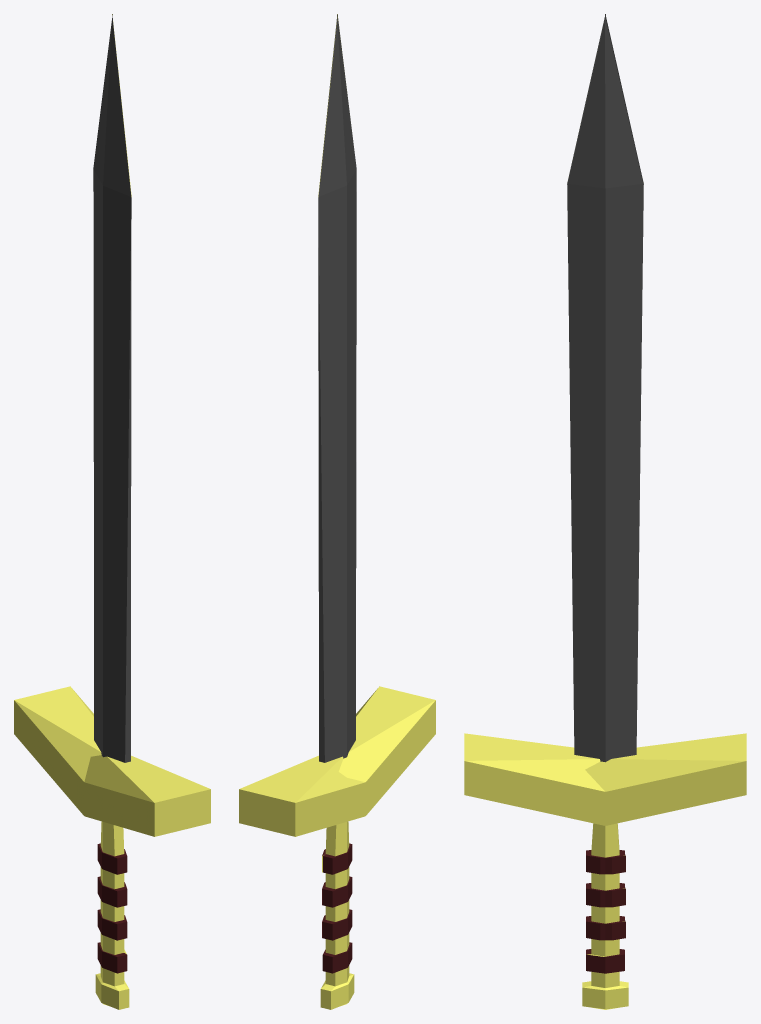
Rendered from Sword.fbx.
The picture shows the model from 3 angles, left to right: view 1: azimuth 30°, elevation 25°; view 2: azimuth 150°, elevation 25°; view 3: azimuth 270°, elevation 25°; orthographic projection.
Parts seen in each view (by area): view 1: Sword; view 2: Sword; view 3: Sword.
Boxes of the visible parts, left/top/right/bottom form: Sword: left=14, top=14, right=210, bottom=1009; Sword: left=239, top=14, right=435, bottom=1009; Sword: left=464, top=14, right=746, bottom=1009.
Bounding box in the file's own units: 200 × 3347 × 863.
